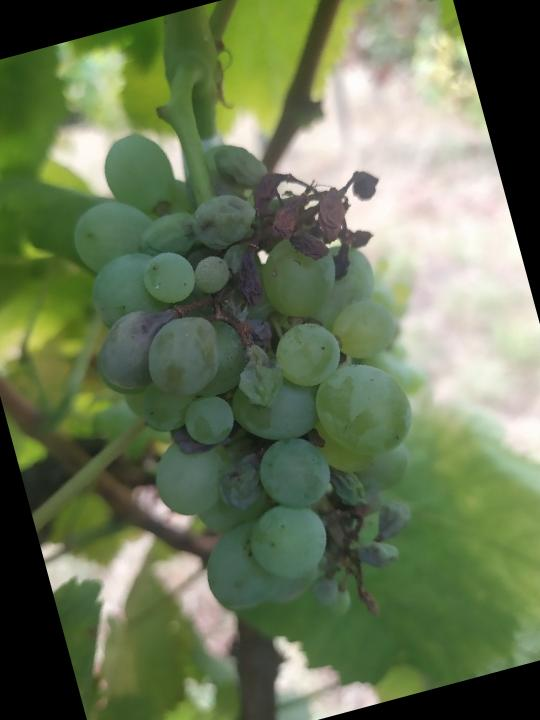grape: (36, 72, 491, 672)
